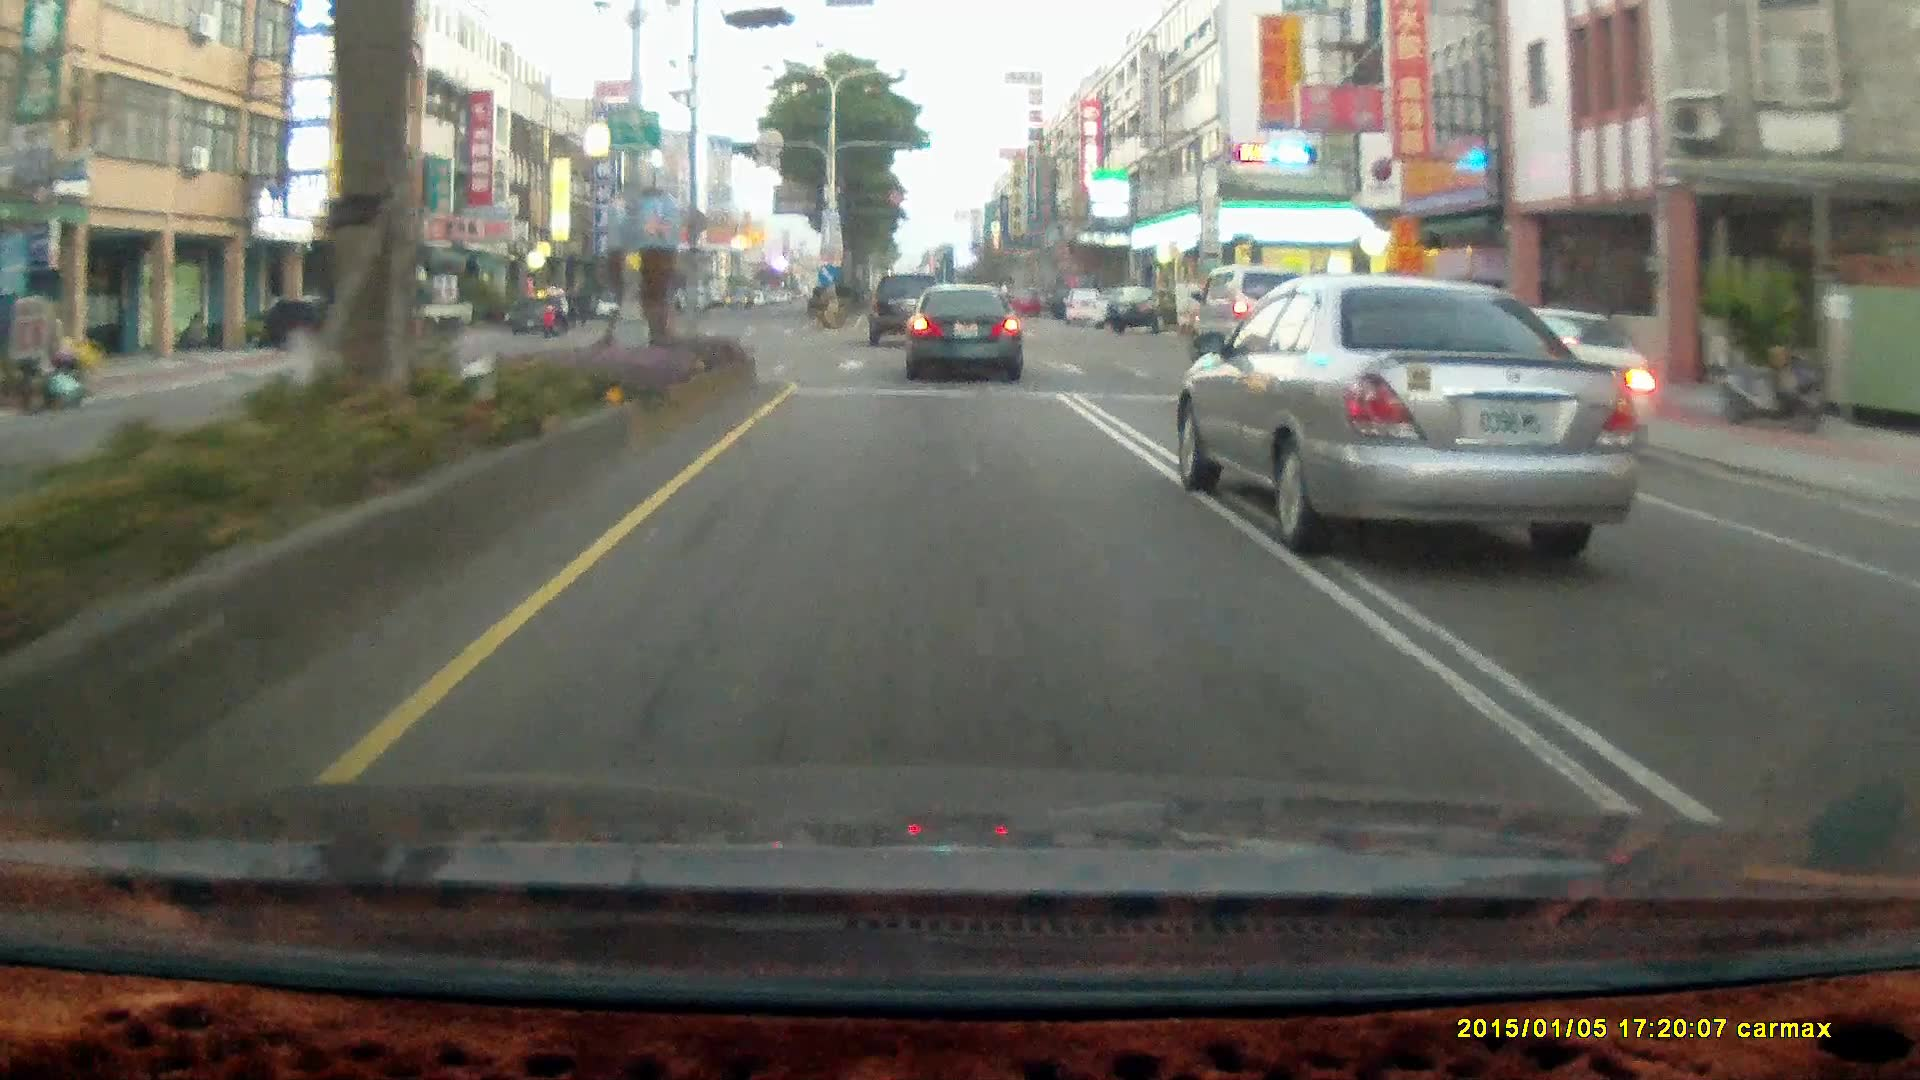rider: (539, 289, 567, 335)
vehicle: (1177, 274, 1653, 558), (1185, 262, 1314, 361), (1191, 267, 1319, 362), (904, 284, 1029, 383), (903, 283, 1022, 378), (218, 298, 366, 351), (248, 297, 373, 356), (369, 287, 477, 345), (867, 271, 945, 349), (358, 283, 471, 334), (868, 271, 944, 344), (1104, 286, 1189, 331), (1104, 285, 1163, 331), (507, 298, 566, 332), (1059, 285, 1106, 324), (602, 294, 638, 320)
